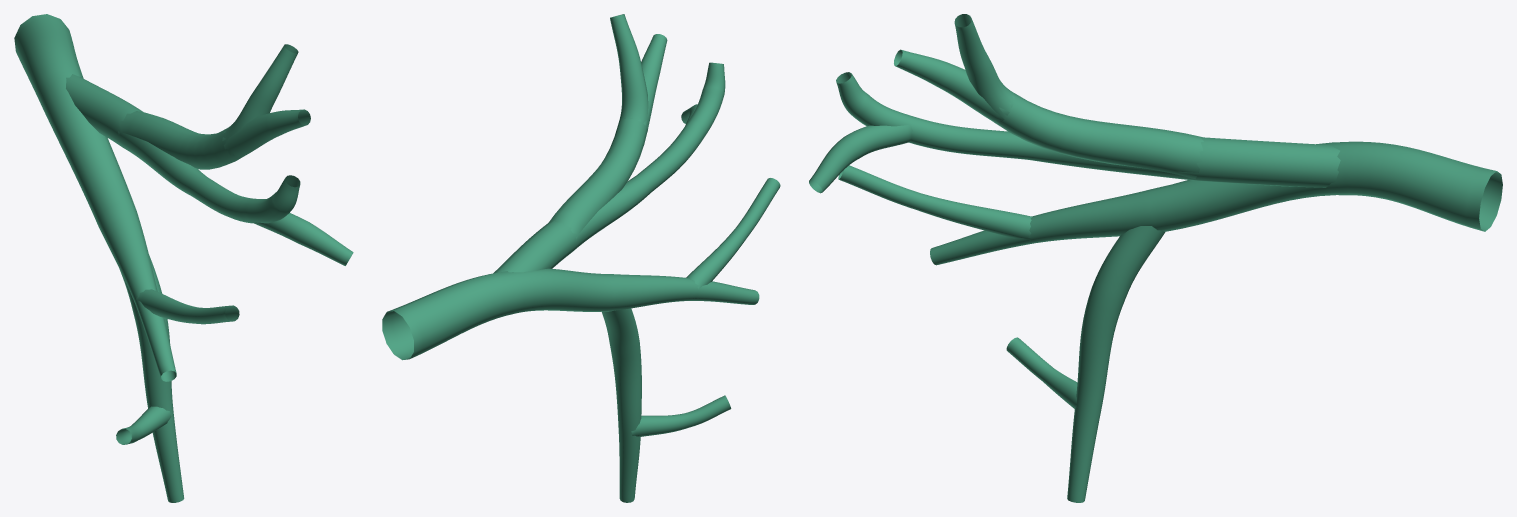
3 renders of one model, left to right at view 1: azimuth 30°, elevation 25°; view 2: azimuth 150°, elevation 25°; view 3: azimuth 270°, elevation 25°, orthographic. The views are drawn at different scales.
Visible parts, largest first — view 1: 右肺尖段支气管（第1段）; view 2: 右肺尖段支气管（第1段）; view 3: 右肺尖段支气管（第1段）.
Boxes of the visible parts, x1,y1,x2,y2 form: 右肺尖段支气管（第1段）: [14, 14, 353, 502]; 右肺尖段支气管（第1段）: [382, 14, 780, 502]; 右肺尖段支气管（第1段）: [809, 14, 1502, 502].
Bounding box in the file's own units: 0.0345 × 0.0942 × 0.1144.
